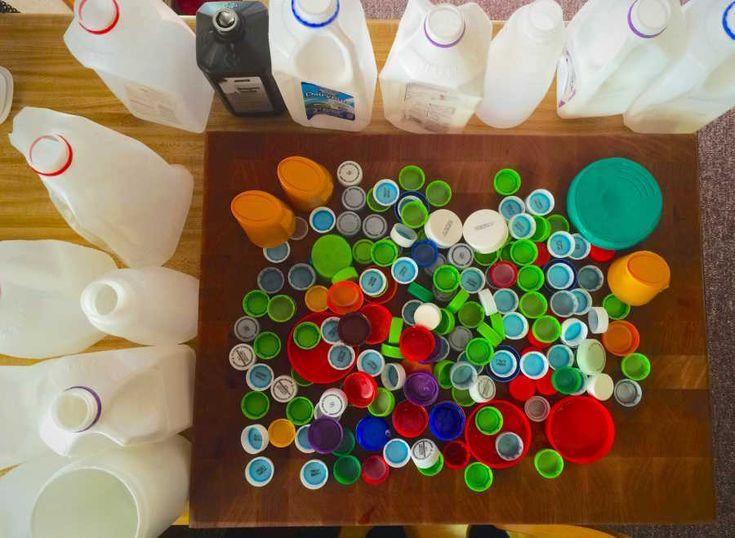HDPE: (10, 105, 193, 269), (61, 0, 214, 134), (32, 346, 199, 448), (0, 239, 119, 362), (267, 0, 377, 131), (378, 0, 482, 137), (479, 0, 568, 136), (82, 260, 199, 350), (570, 155, 661, 251), (546, 394, 617, 471), (235, 187, 297, 245), (607, 252, 670, 308), (275, 154, 333, 211), (464, 209, 508, 254), (311, 233, 351, 281), (426, 208, 461, 249), (603, 320, 639, 359), (393, 398, 428, 438), (428, 402, 464, 440), (397, 325, 436, 360), (326, 283, 362, 318), (337, 311, 370, 343), (292, 319, 322, 353), (244, 362, 273, 392), (266, 293, 295, 322), (391, 257, 420, 286), (327, 344, 356, 371), (253, 332, 280, 359)
